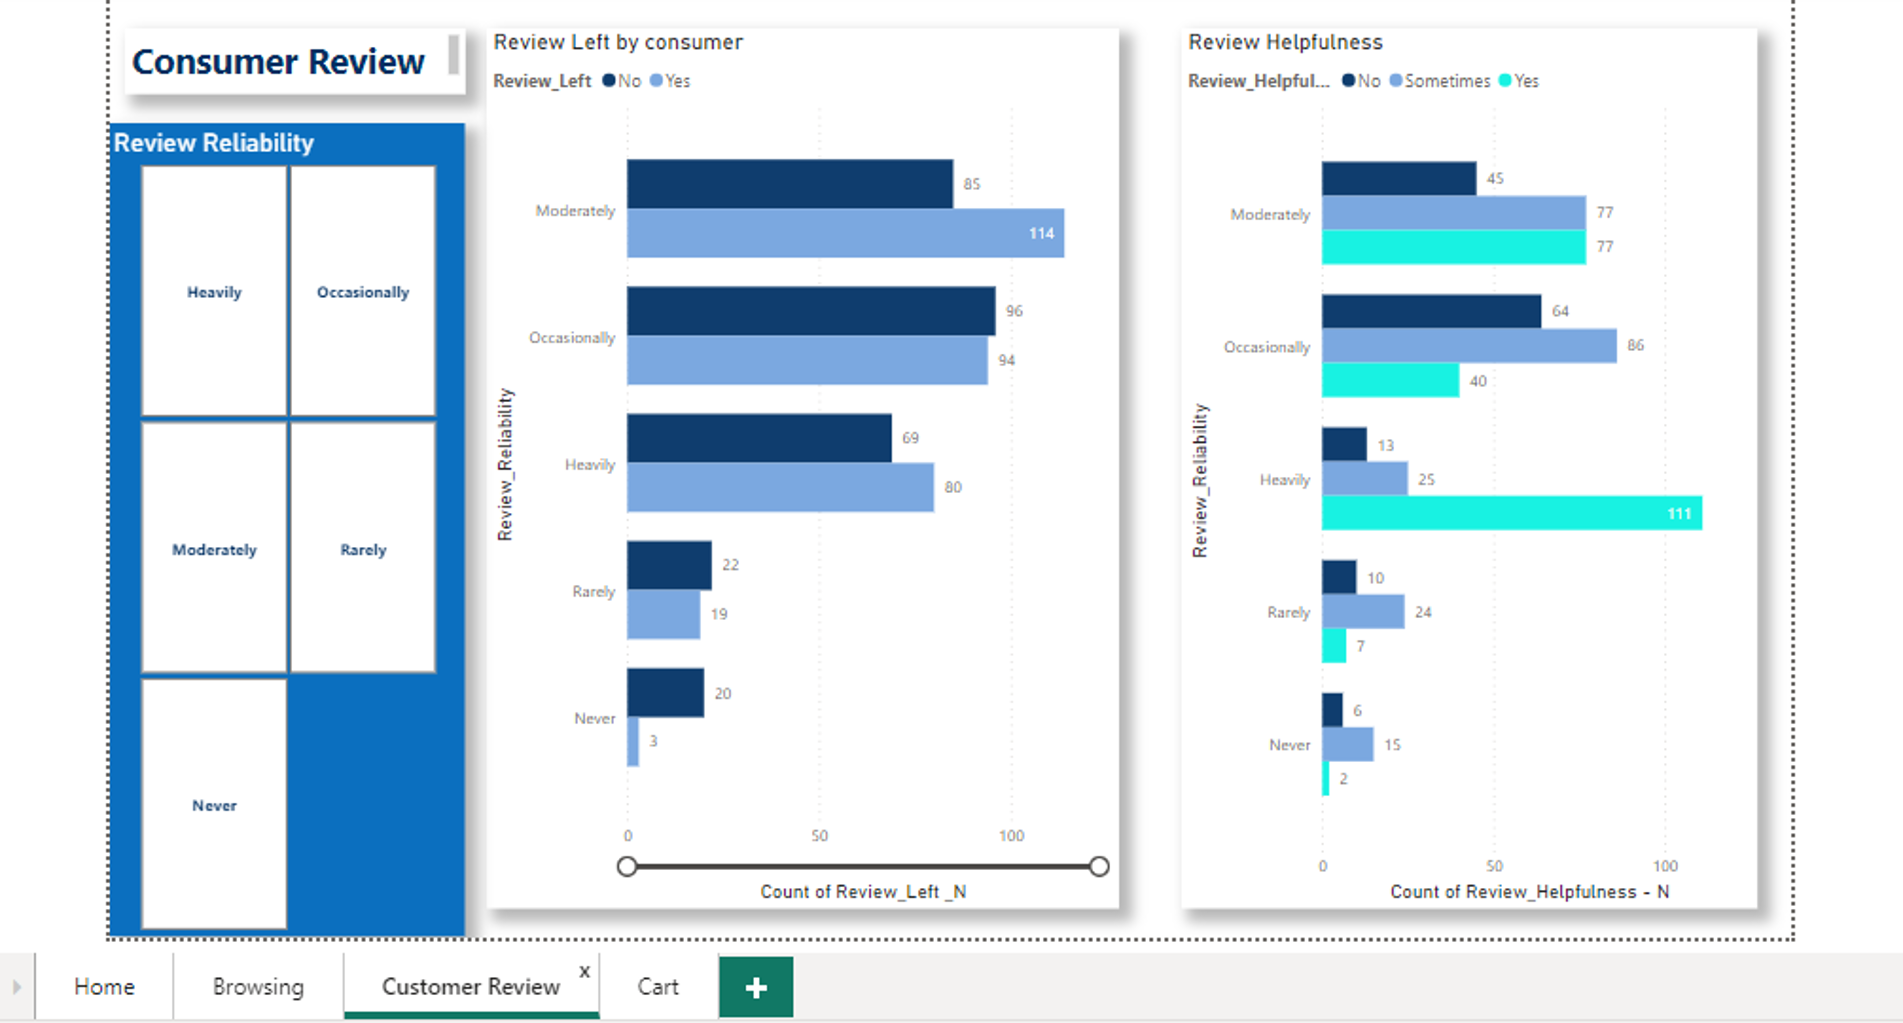

Layout of this report page (visuals, bound fields, positions):
{"tool":"powerbi","page":{"name":"Customer Review","canvas":[1280,720],"ordinal":2},"visuals":[{"type":"textbox","box":[11,28.3,259.5,50.3],"z":0},{"type":"clusteredBarChart","title":"Review Left by consumer","fields":{"Category":["Amazon Customer Behavior Survey 1 - Copy (1).Review_Reliability"],"Y":["CountNonNull(Amazon Customer Behavior Survey 1 - Copy (1).Review_Left _N)"],"Series":["Amazon Customer Behavior Survey 1 - Copy (1).Review_Left"]},"box":[285.9,28.6,481.2,668.6],"z":1000},{"type":"slicer","title":"Review Reliability","fields":{"Values":["Amazon Customer Behavior Survey 1 - Copy (1).Review_Reliability"]},"box":[0,100.6,270.5,618],"z":2000},{"type":"clusteredBarChart","title":" Review Helpfulness ","fields":{"Category":["Amazon Customer Behavior Survey 1 - Copy (1).Review_Reliability"],"Y":["CountNonNull(Amazon Customer Behavior Survey 1 - Copy (1).Review_Helpfulness - N)"],"Series":["Amazon Customer Behavior Survey 1 - Copy (1).Review_Helpfulness"]},"box":[814.7,28.6,438.3,668.6],"z":3000}]}

Visuals, with their boxes on the page's 1280x720 design canvas (x1, y1, x2, y2). These are canvas units, not pixel positions in the 1903x1023 screenshot, which may show the page scaled, cropped or inside an application window:
textbox: (x1=11, y1=28, x2=270, y2=79)
"Review Left by consumer" clusteredBarChart: (x1=286, y1=29, x2=767, y2=697)
"Review Reliability" slicer: (x1=0, y1=101, x2=270, y2=719)
" Review Helpfulness " clusteredBarChart: (x1=815, y1=29, x2=1253, y2=697)
